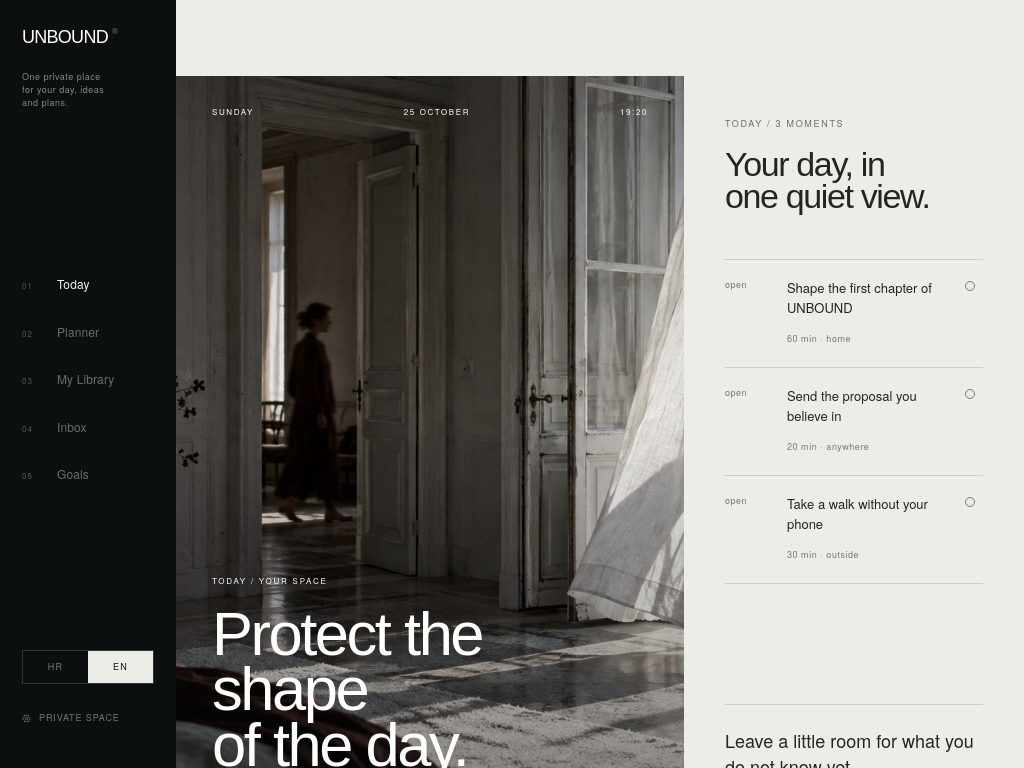
UNBOUND Life OS interactions › offers optional weekly, monthly, quarterly, and yearly reports
Step 1. Click the link "05 Goals" → (56, 474), box [22, 466, 89, 482]
(page scrolled)
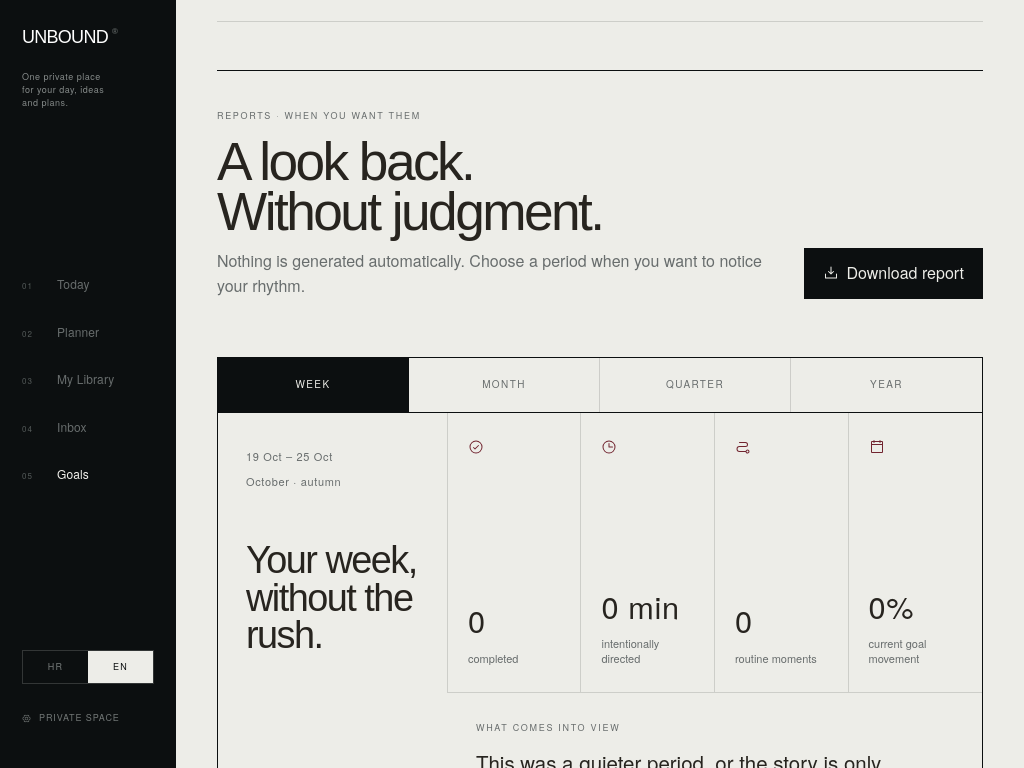
Check: the heading named "A look back. Without judgment." is shown, box [217, 132, 603, 241]
Check: the button "Download report" is shown, box [804, 248, 983, 299]
Step 2. Click the button "Quarter" → (696, 385), box [600, 358, 791, 412]
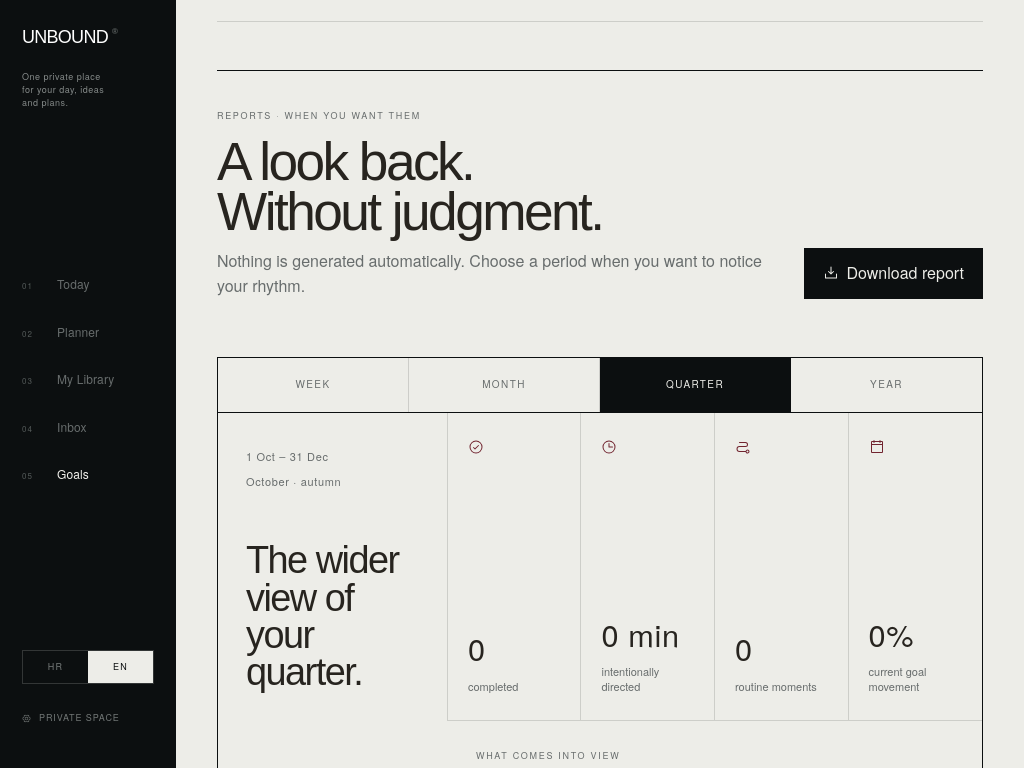
Check: the button "Year" is shown, box [791, 358, 982, 412]
Check: the heading "The wider view of your quarter." is shown, box [246, 542, 419, 691]
